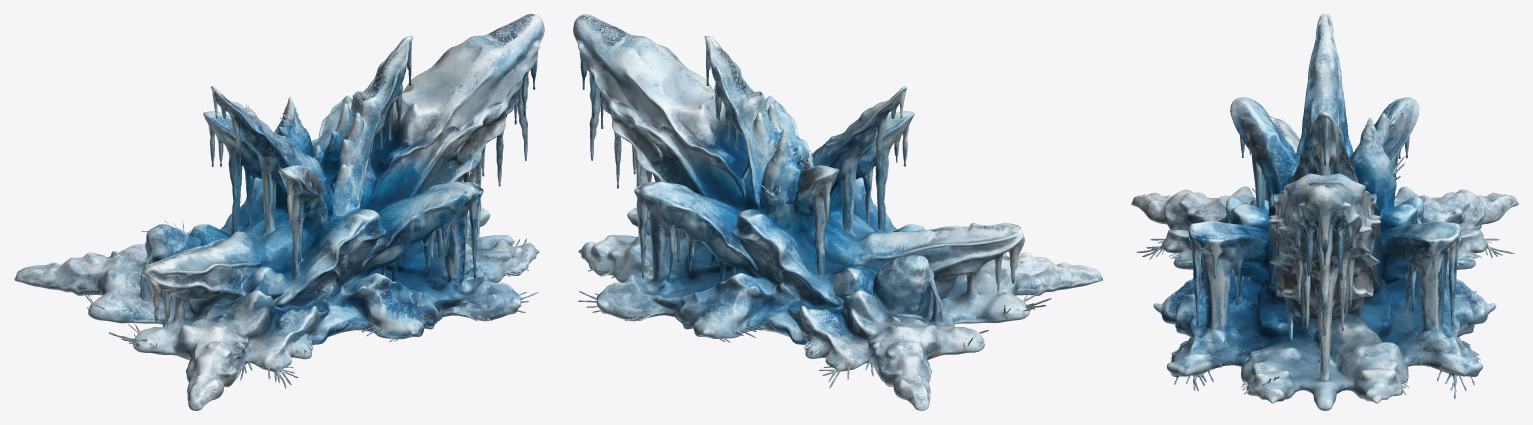
File: ice_formation.glb
3 views of the same model, side by side, from view 1: azimuth 30°, elevation 25°; view 2: azimuth 150°, elevation 25°; view 3: azimuth 270°, elevation 25° (orthographic). The views are drawn at different scales.
Parts seen in each view (by area): view 1: tripo_node_1ad87e3b-94e0-416f-9673-9a604452e436; view 2: tripo_node_1ad87e3b-94e0-416f-9673-9a604452e436; view 3: tripo_node_1ad87e3b-94e0-416f-9673-9a604452e436.
Boxes of the visible parts, x1,y1,x2,y2 form: tripo_node_1ad87e3b-94e0-416f-9673-9a604452e436: [14, 14, 544, 410]; tripo_node_1ad87e3b-94e0-416f-9673-9a604452e436: [573, 14, 1102, 410]; tripo_node_1ad87e3b-94e0-416f-9673-9a604452e436: [1131, 14, 1518, 410].
Size of the model in its own units: 0.979 by 0.4914 by 0.6869.
1 material, 1 textured.
